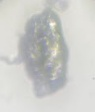microplastic: (16, 7, 71, 100)
